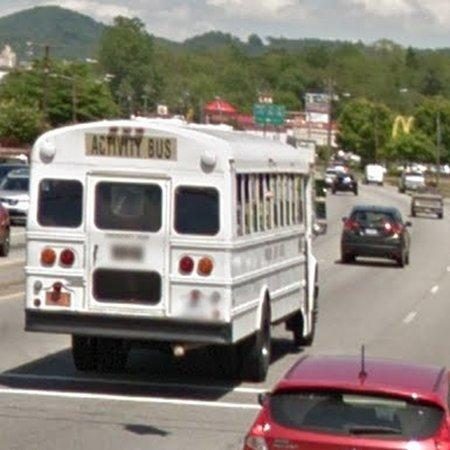buses: (25, 120, 319, 382)
